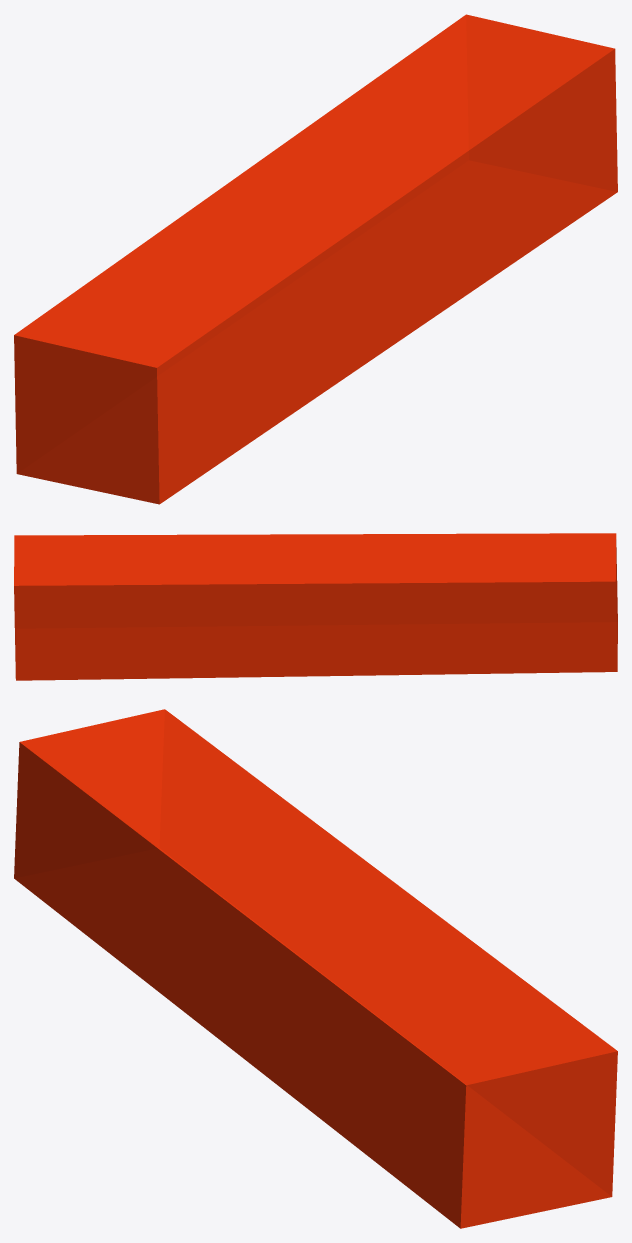
The model's file is Event_421115418_EBrechit_56.fbx.
3 renders of one model, top to bottom at view 1: azimuth 30°, elevation 25°; view 2: azimuth 150°, elevation 25°; view 3: azimuth 270°, elevation 25°, orthographic. The views are drawn at different scales.
Parts seen in each view (by area): view 1: Model; view 2: Model; view 3: Model.
Boxes of the visible parts, <box> form: Model: <box>14,14,617,504</box>; Model: <box>14,533,617,680</box>; Model: <box>14,709,617,1228</box>.
Size of the model in its own units: 0.3222 by 0.0631 by 0.2216.
